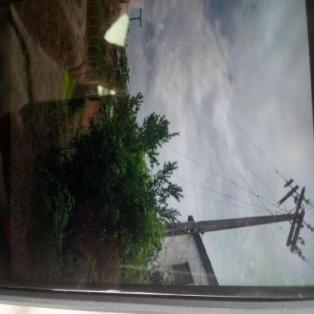Poste: (115, 209, 302, 240)
